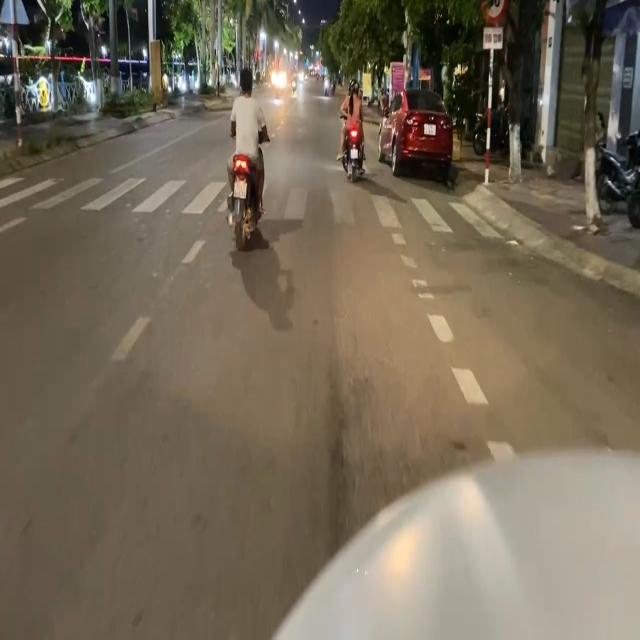walk-crossing: (264, 184, 498, 238), (0, 169, 234, 219)
